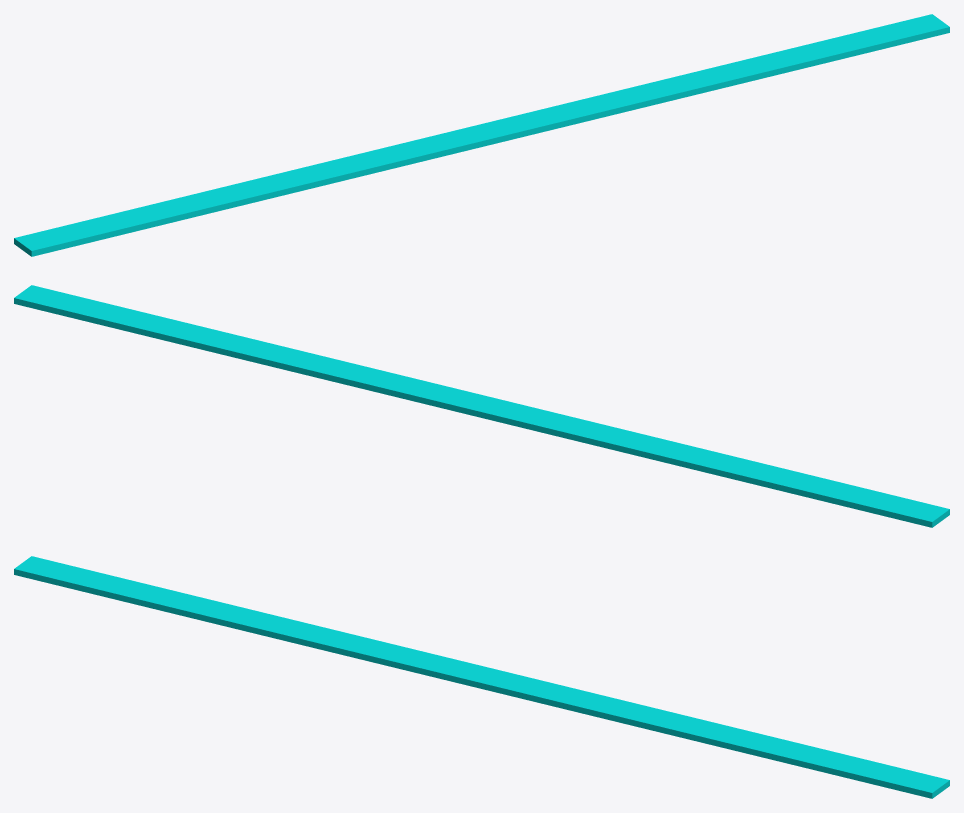
The model's file is Chain_low.fbx.
The picture shows the model from 3 angles, top to bottom: view 1: azimuth 30°, elevation 25°; view 2: azimuth 150°, elevation 25°; view 3: azimuth 330°, elevation 25°; orthographic projection.
Parts seen in each view (by area): view 1: Chain_low; view 2: Chain_low; view 3: Chain_low.
Boxes of the visible parts, x1,y1,x2,y2 form: Chain_low: (14,14,949,256); Chain_low: (14,285,949,527); Chain_low: (14,556,949,798).
Size of the model in its own units: 6 by 0.0368 by 0.2.
